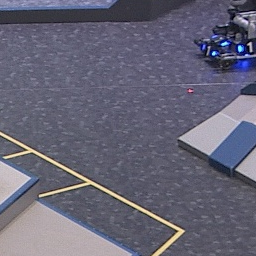Blue: (237, 41, 256, 55), (201, 42, 215, 59)
Robot: (194, 5, 256, 71)
